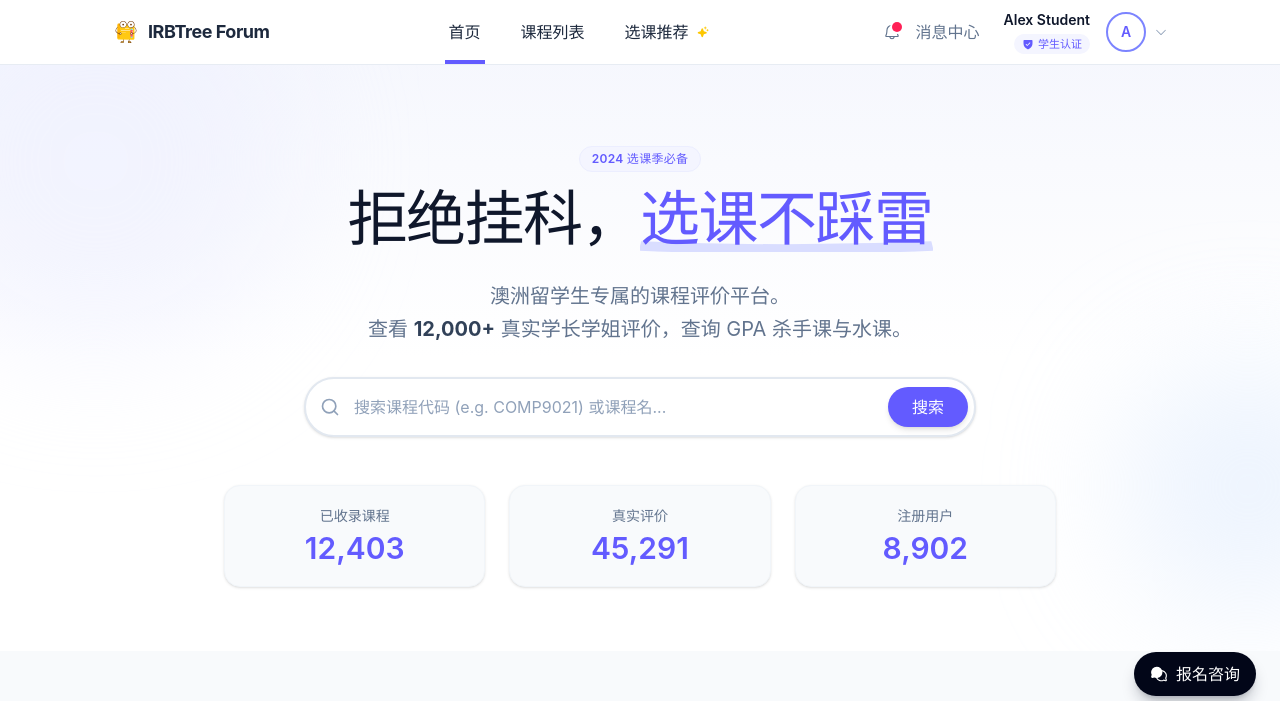
Scenario: router › navigates from the home header to courses without requiring login
Expected: the heading "拒绝挂科， 选课不踩雷" is shown, [348, 182, 932, 254]
Click the link "课程列表".
click(552, 32)  # box [520, 22, 584, 42]
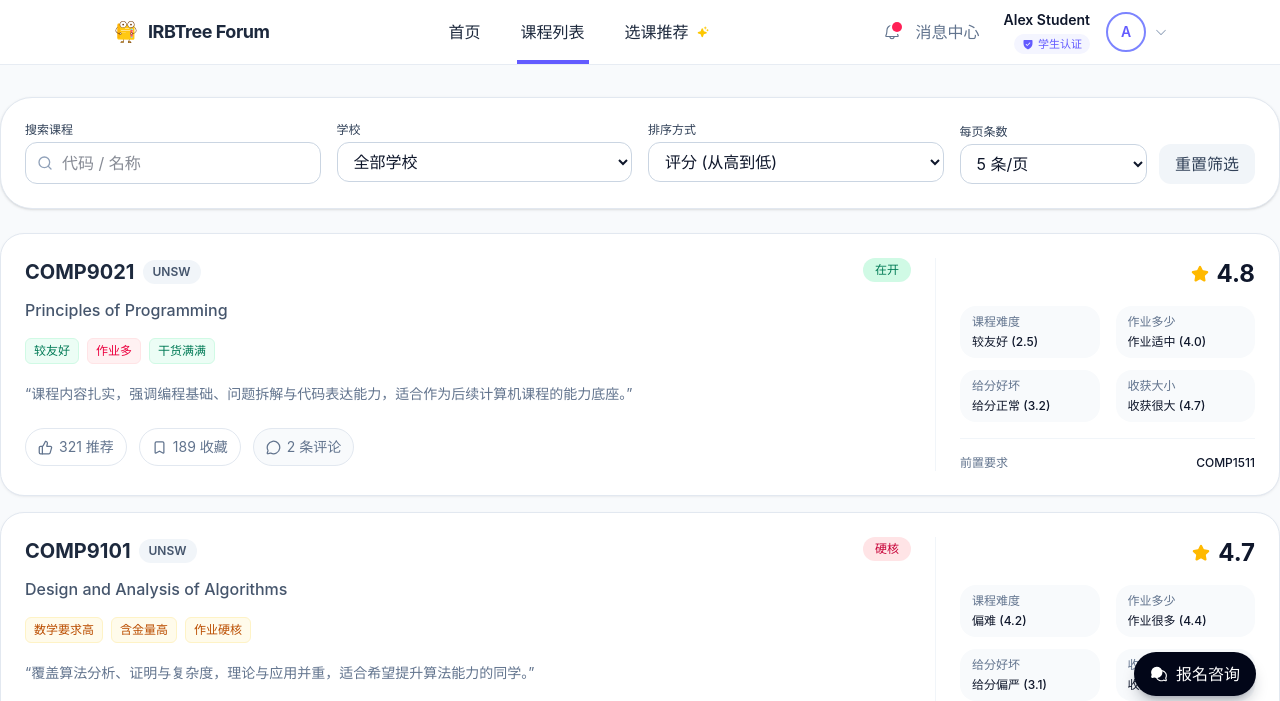
Expected: the field labelled "搜索课程" is shown, [25, 142, 320, 184]
